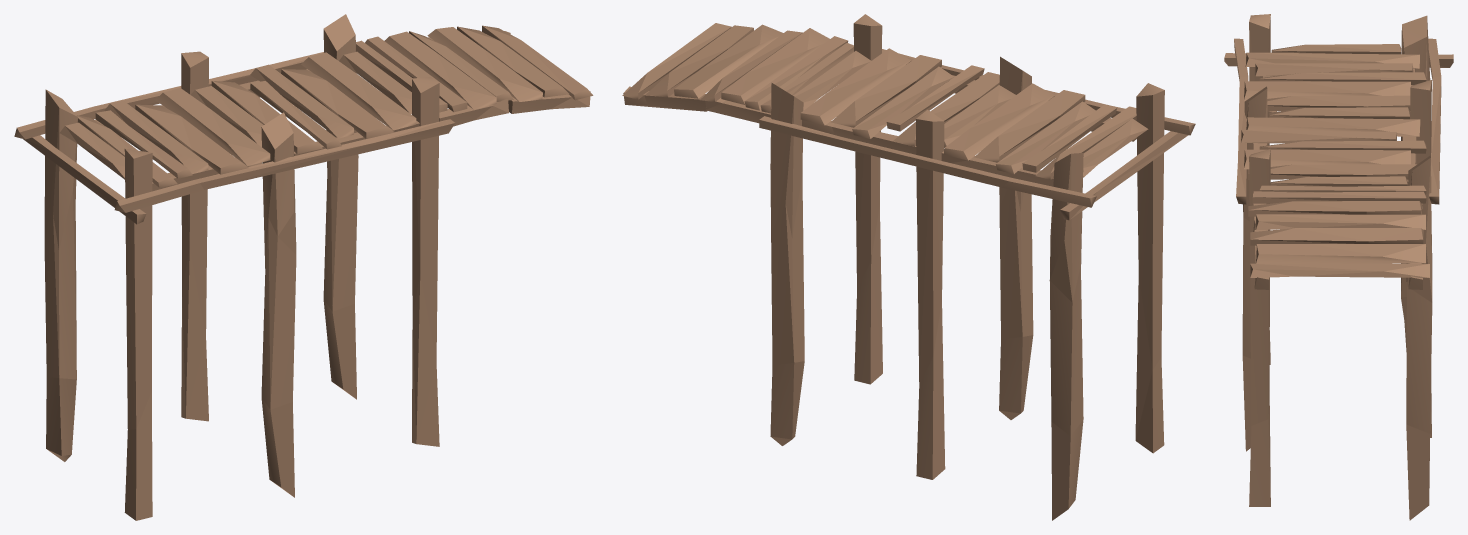
The model's file is BridgePontoon_LOD2.fbx.
3 renders of one model, left to right at view 1: azimuth 30°, elevation 25°; view 2: azimuth 150°, elevation 25°; view 3: azimuth 270°, elevation 25°, orthographic. The views are drawn at different scales.
Visible parts, largest first — view 1: bridge_pontoon_01.001; view 2: bridge_pontoon_01.001; view 3: bridge_pontoon_01.001.
Part boxes in pixels (x1,y1,x2,y2): bridge_pontoon_01.001: (14,14,593,520); bridge_pontoon_01.001: (622,14,1195,520); bridge_pontoon_01.001: (1224,14,1453,520).
Size of what is drawn, in the model's own units: 4.21 by 3.15 by 1.8.
